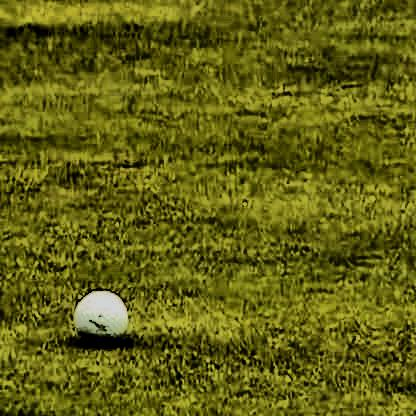golfball: (70, 287, 127, 343)
